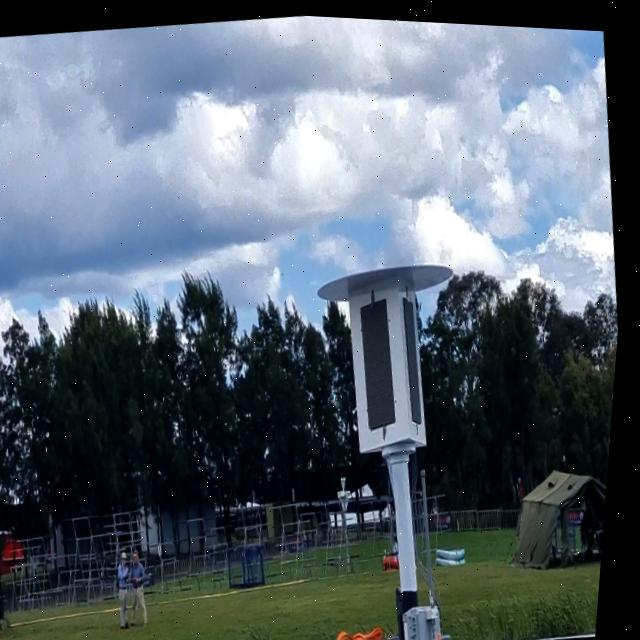led: (351, 282, 419, 435)
